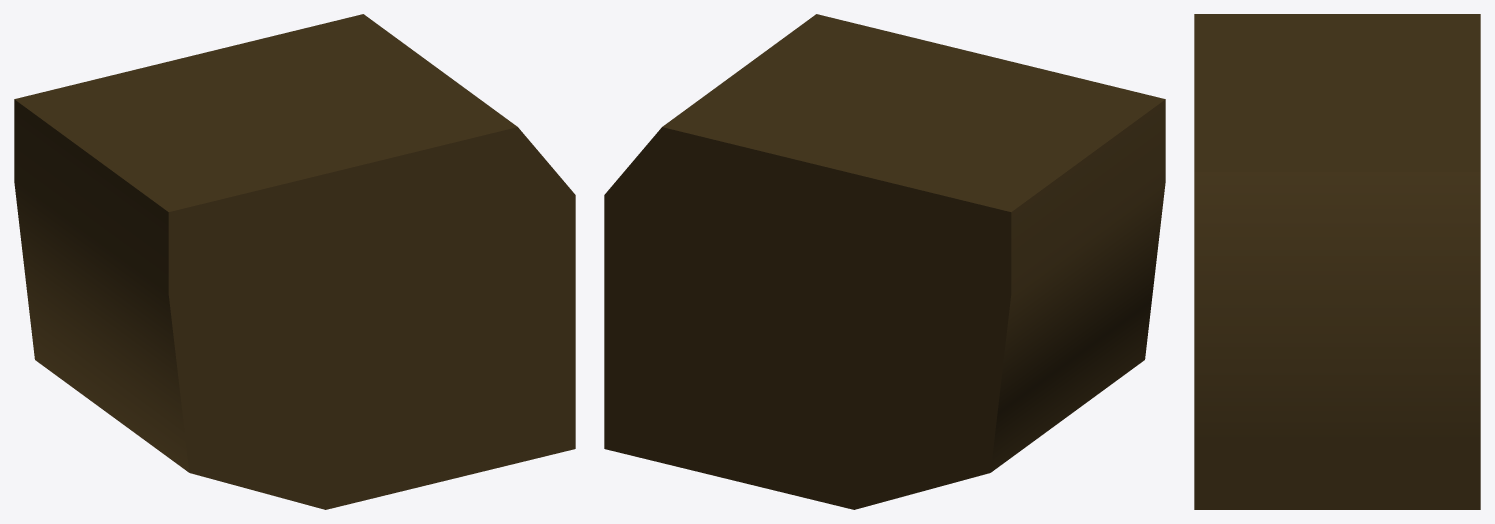
The model's file is rock.FBX.
3 renders of one model, left to right at view 1: azimuth 30°, elevation 25°; view 2: azimuth 150°, elevation 25°; view 3: azimuth 270°, elevation 25°, orthographic. The views are drawn at different scales.
Parts seen in each view (by area): view 1: Box049; view 2: Box049; view 3: Box049.
Part boxes in pixels (x1,y1,x2,y2): Box049: (14,14,575,509); Box049: (604,14,1165,509); Box049: (1194,14,1480,509).
Bounding box in the file's own units: 179 × 141 × 117.
